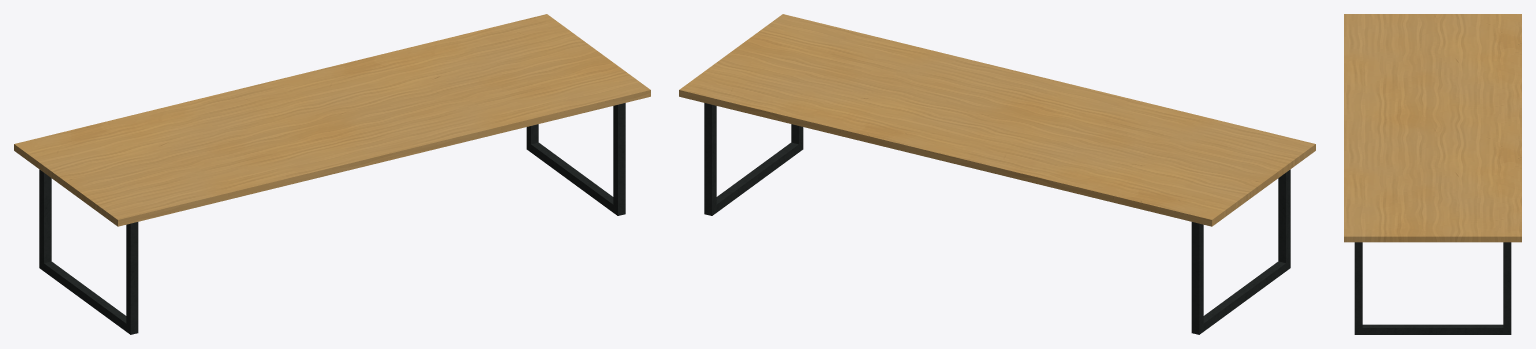
The model's file is desk_1_1.glb.
The picture shows the model from 3 angles, left to right: view 1: azimuth 30°, elevation 25°; view 2: azimuth 150°, elevation 25°; view 3: azimuth 270°, elevation 25°; orthographic projection. The views are drawn at different scales.
Parts seen in each view (by area): view 1: desk_3_1; view 2: desk_3_1; view 3: desk_3_1.
Boxes of the visible parts, left/top/right/bottom form: desk_3_1: left=14, top=14, right=650, bottom=334; desk_3_1: left=679, top=14, right=1315, bottom=334; desk_3_1: left=1344, top=14, right=1521, bottom=334.
Size of what is drawn, in the model's own units: 3.97 by 0.8842 by 1.34.
2 materials, 2 textured.
